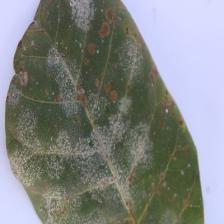red rust: (4, 0, 205, 223)
